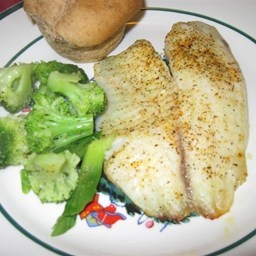background: (0, 0, 99, 95)
